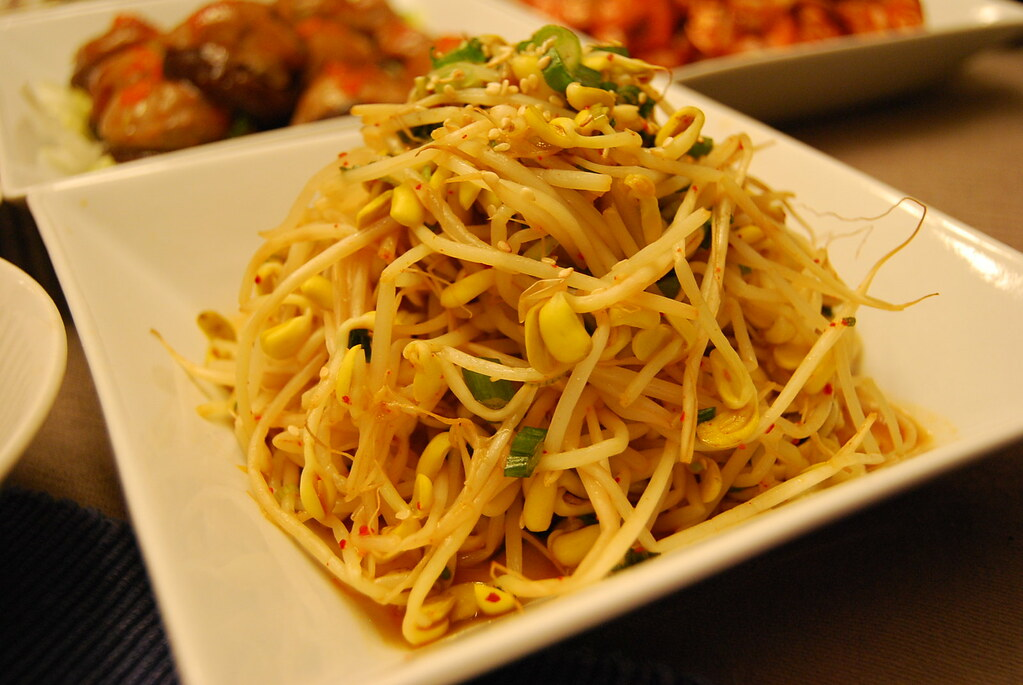mung_bean_sprouts: (145, 31, 928, 652)
